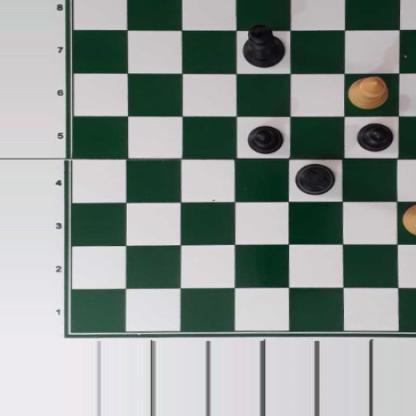black-king: (241, 23, 286, 69)
black-pawn: (246, 124, 285, 154), (357, 121, 393, 152)
black-rook: (296, 164, 335, 196)
white-bishop: (350, 75, 387, 109)
white-king: (400, 204, 416, 237)
